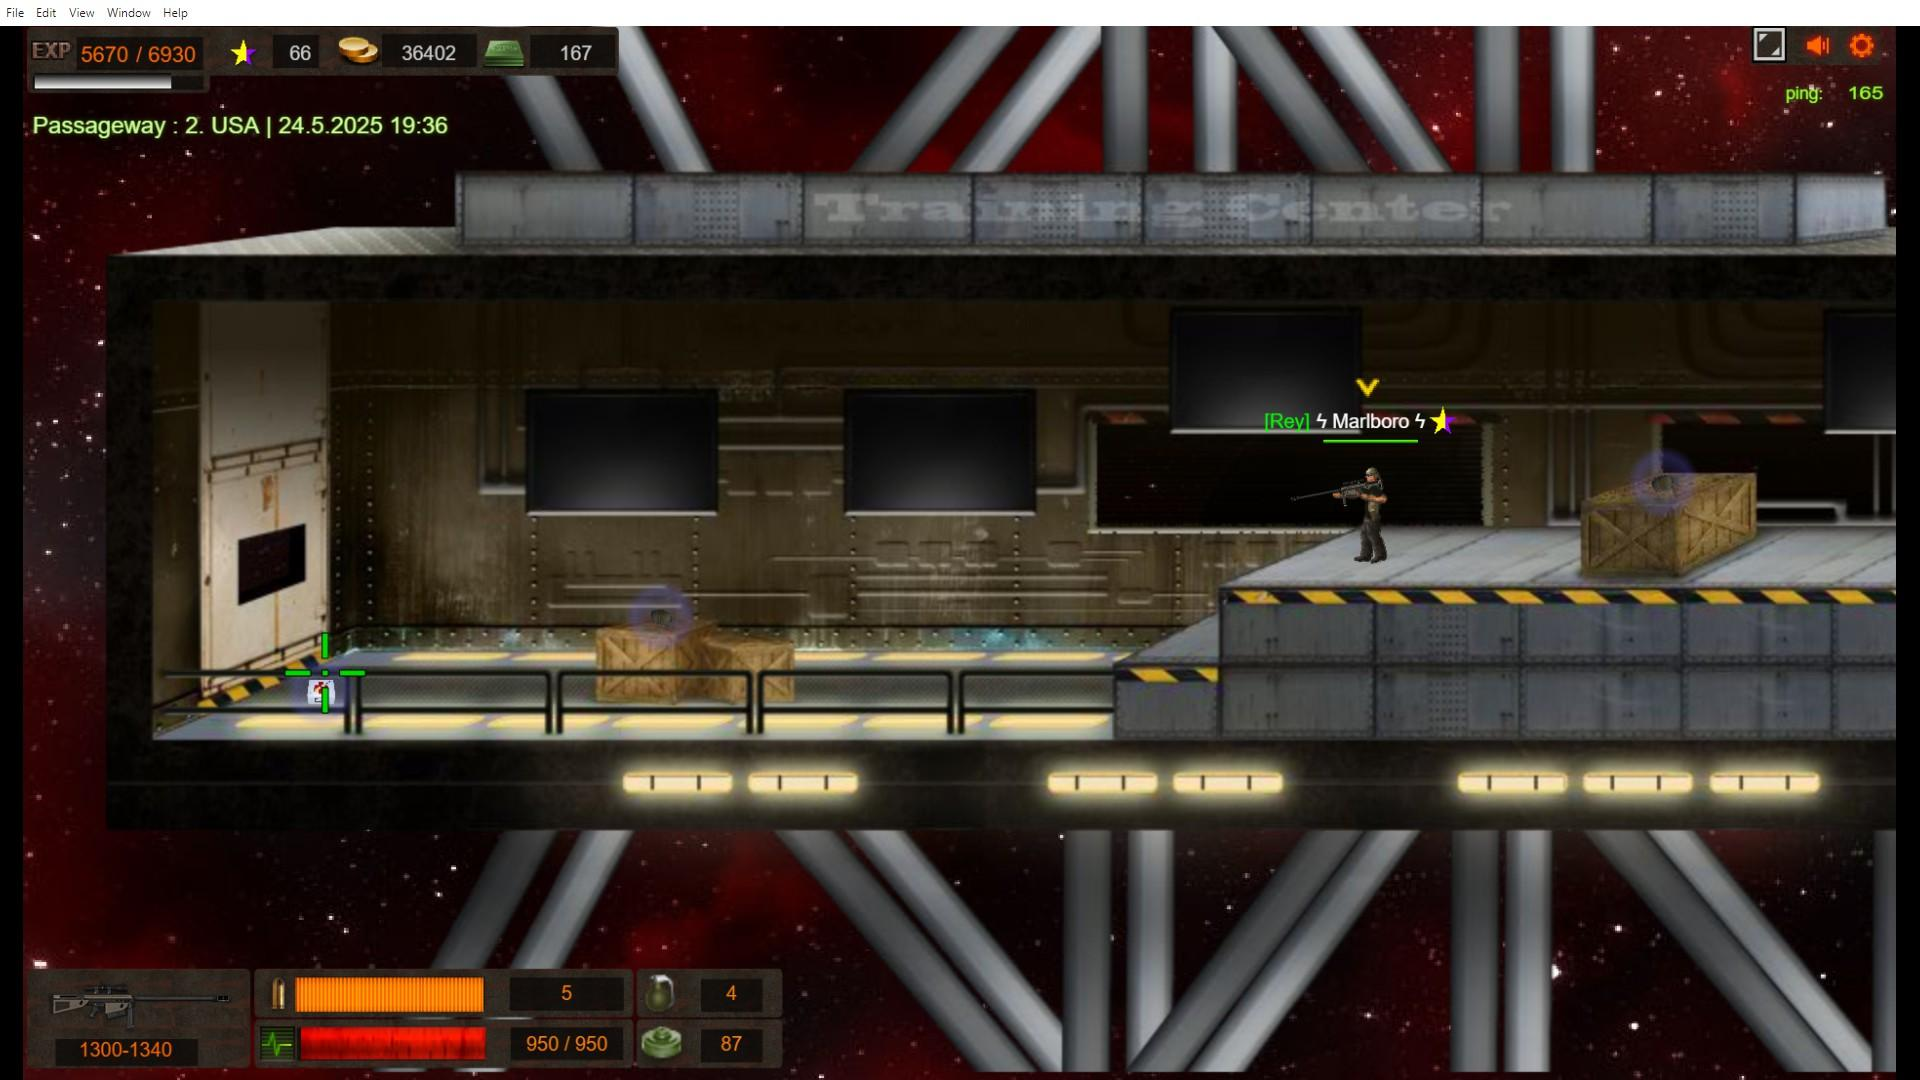enemy: (1357, 465, 1389, 563)
